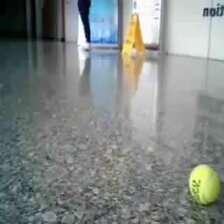tennis: (188, 165, 221, 206)
